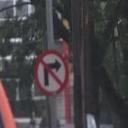NoVirarDireita: (34, 51, 68, 96)
